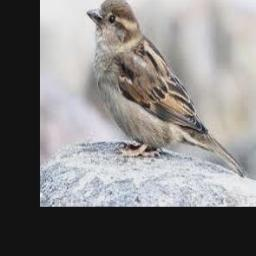Sparrow: (88, 0, 246, 177)
